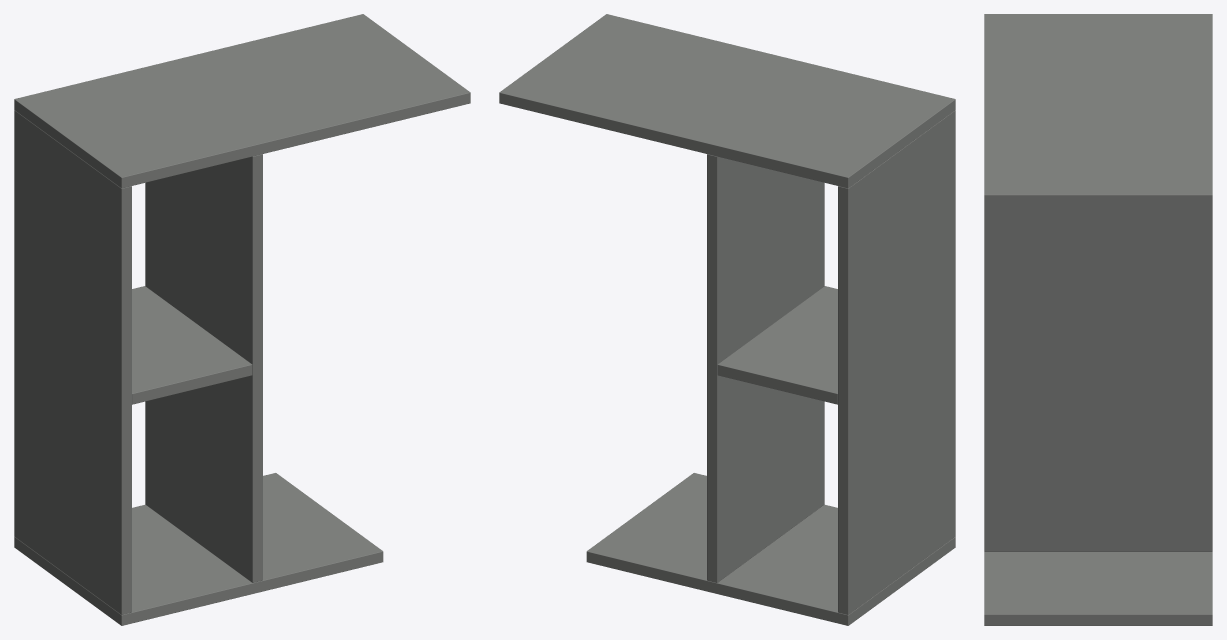
Rendered from mueble_02.glb.
The picture shows the model from 3 angles, left to right: view 1: azimuth 30°, elevation 25°; view 2: azimuth 150°, elevation 25°; view 3: azimuth 270°, elevation 25°; orthographic projection. The views are drawn at different scales.
Parts seen in each view (by area): view 1: Mesh3, Mesh2, Mesh5, Mesh4, Mesh1; view 2: Mesh3, Mesh2, Mesh5, Mesh4, Mesh1; view 3: Mesh5, Mesh2, Mesh4.
Boxes of the visible parts, x1=… form: Mesh3: x1=14, y1=110, x2=131, y2=614; Mesh2: x1=14, y1=14, x2=470, y2=188; Mesh5: x1=145, y1=154, x2=262, y2=582; Mesh4: x1=14, y1=473, x2=383, y2=625; Mesh1: x1=132, y1=286, x2=252, y2=404; Mesh3: x1=838, y1=110, x2=955, y2=614; Mesh2: x1=499, y1=14, x2=955, y2=188; Mesh5: x1=707, y1=154, x2=824, y2=582; Mesh4: x1=586, y1=473, x2=955, y2=625; Mesh1: x1=717, y1=286, x2=837, y2=404; Mesh5: x1=984, y1=206, x2=1212, y2=551; Mesh2: x1=984, y1=14, x2=1212, y2=206; Mesh4: x1=984, y1=552, x2=1212, y2=625.
Size of the model in its own units: 0.6 by 0.736 by 0.32.
Materials: 1 (1 with a texture image).
